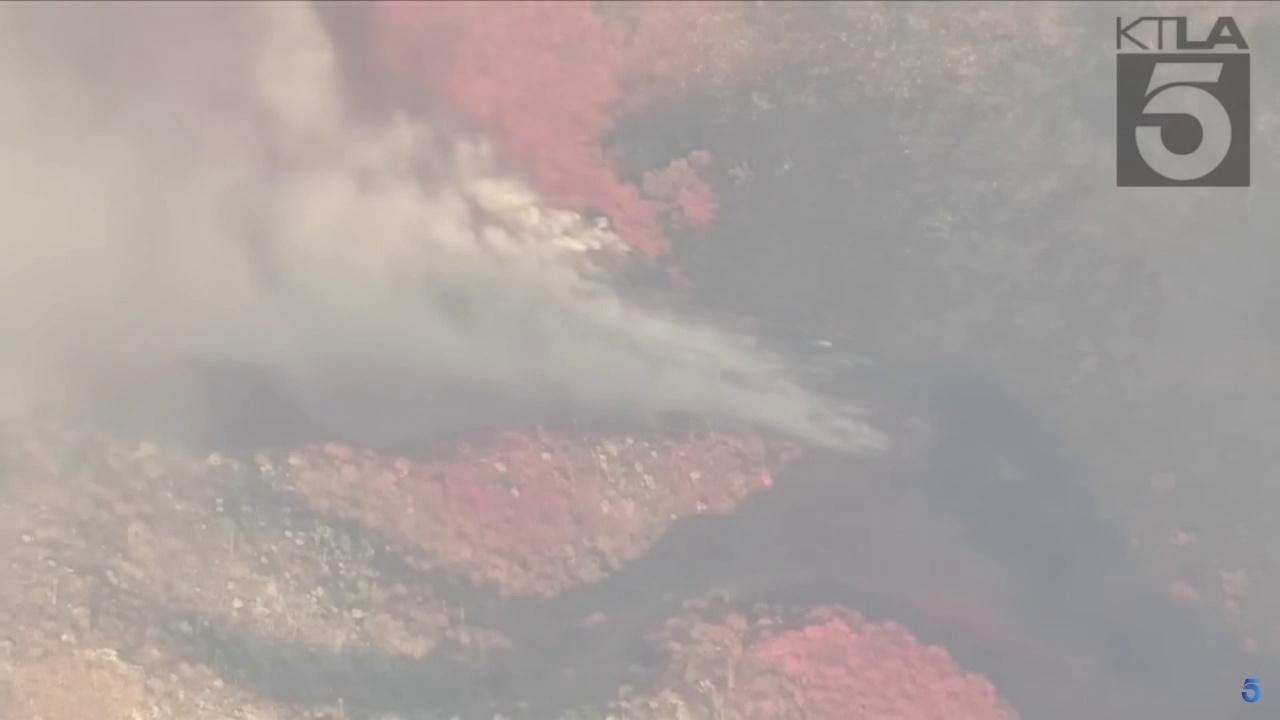smoke: (0, 0, 891, 462)
